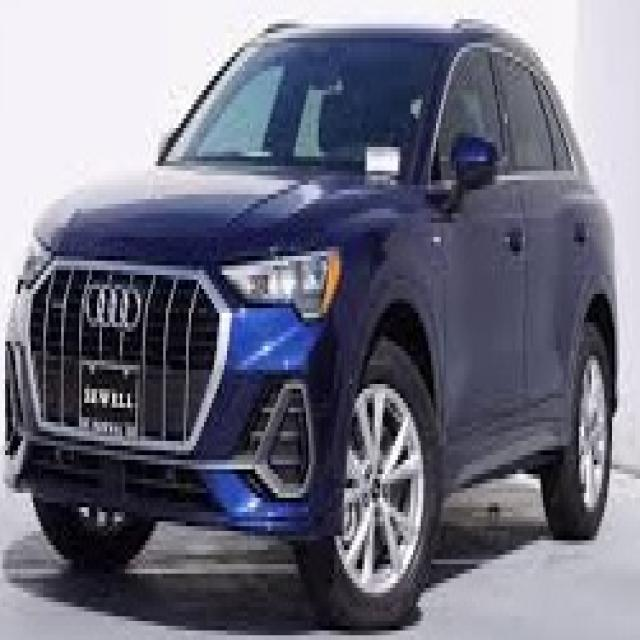blue: (7, 11, 620, 617)
